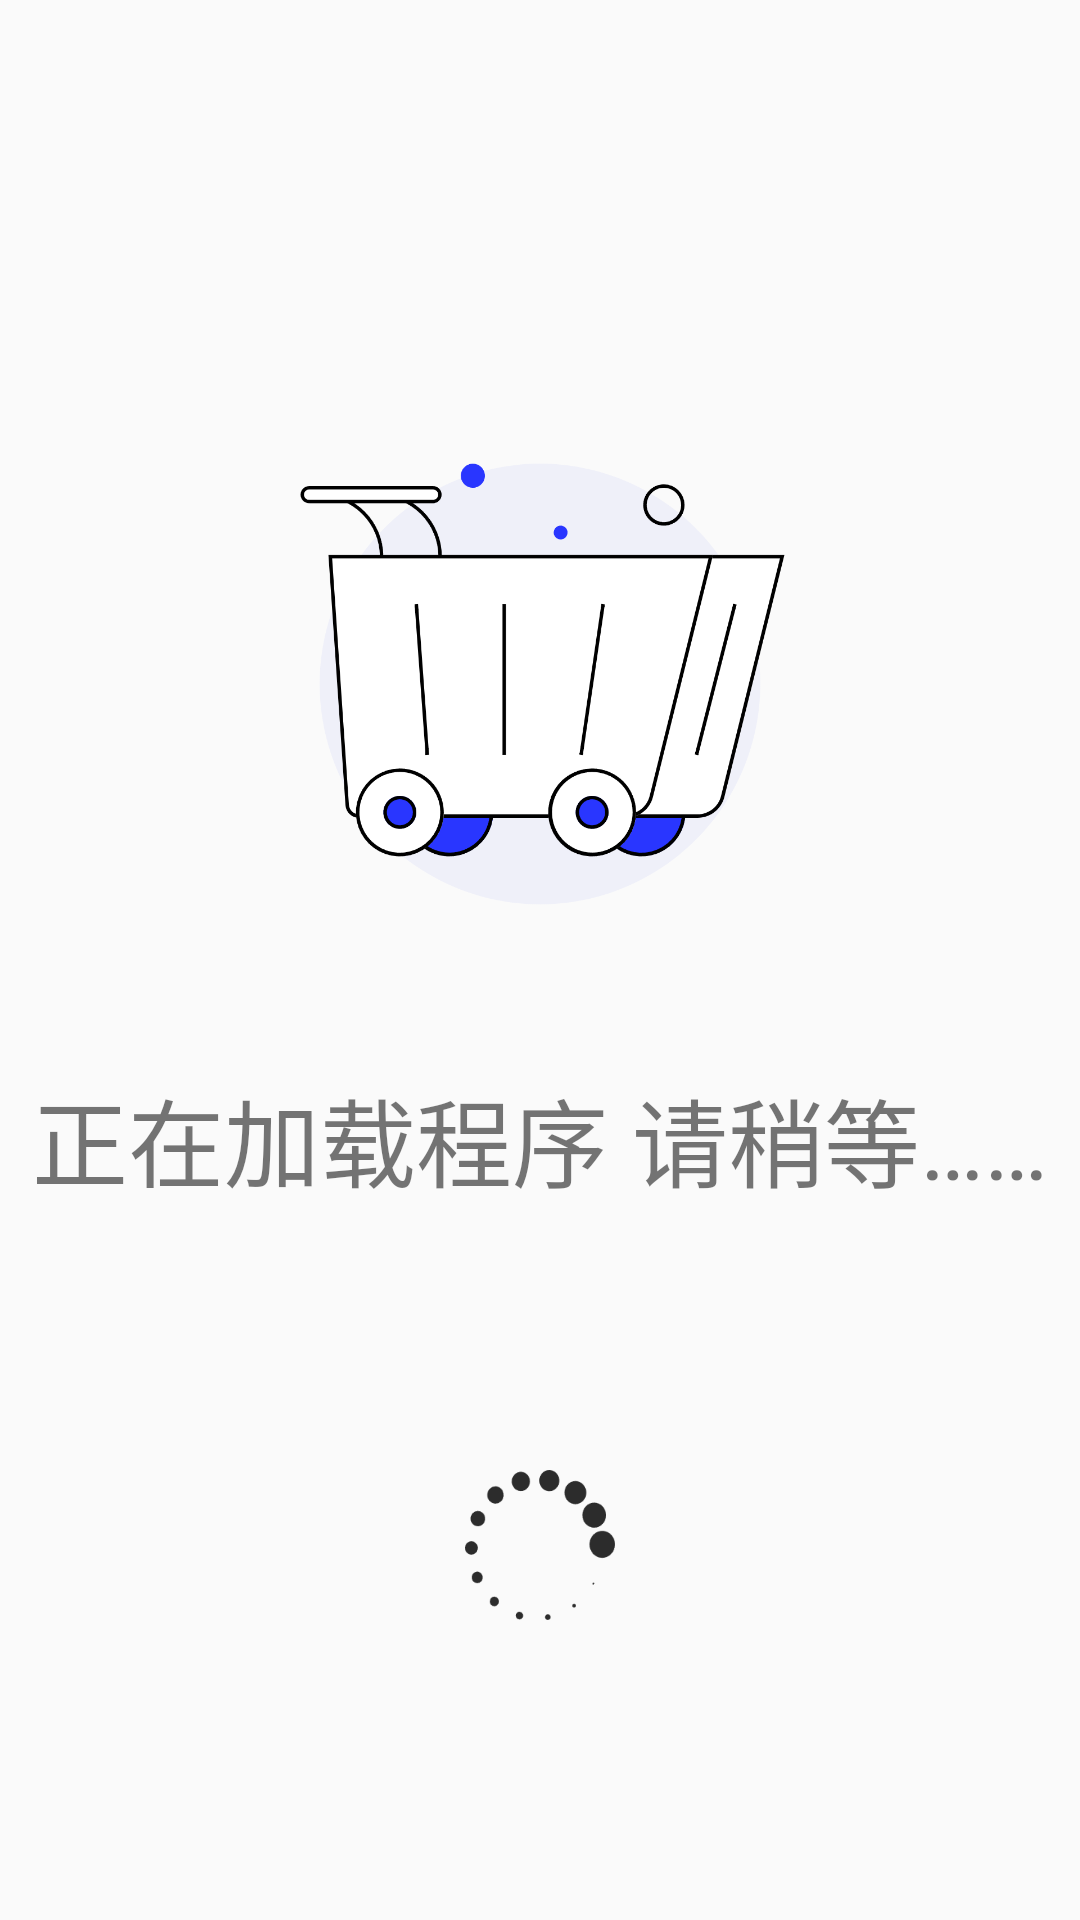

Screen size 1080px×1920px. Icon name, then its center in pixels as [x,y]:
loading: [540,1545]
